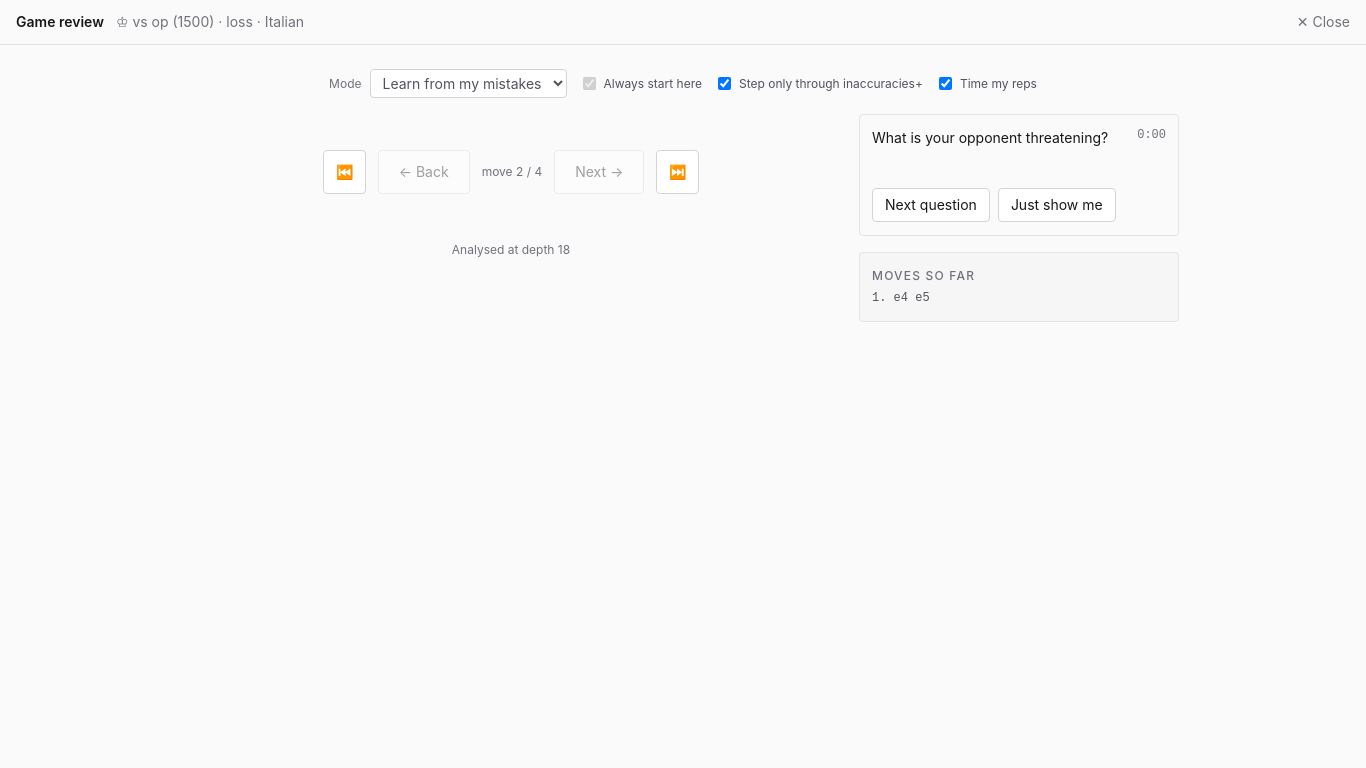
before a commit nothing that answers the question is on screen › in Learn the stepper is enabled exactly when a prompt ply lies that way
expect the button "← Back" is disabled: met, box x1=378 y1=150 x2=470 y2=194
expect the button "Next →" is disabled: met, box x1=554 y1=150 x2=644 y2=194
Press ArrowRight
expect the text "move 2 / 4" is shown: met, box x1=482 y1=164 x2=542 y2=180
Click the checkbox labelled "Step only through inaccuracies+".
click(724, 84)  # box x1=718 y1=77 x2=731 y2=90
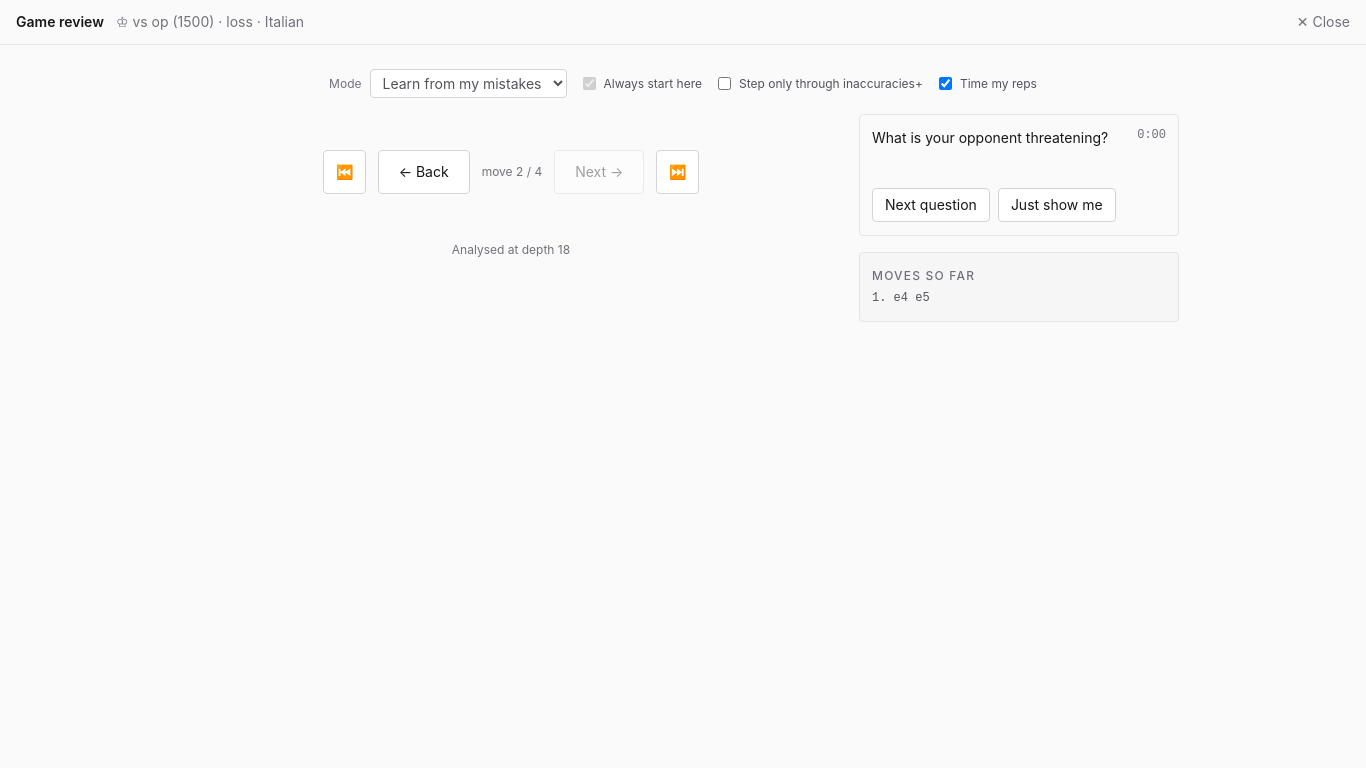
expect the button "Next →" is disabled: met, box x1=554 y1=150 x2=644 y2=194
expect the button "← Back" is enabled: met, box x1=378 y1=150 x2=470 y2=194
Press ArrowLeft
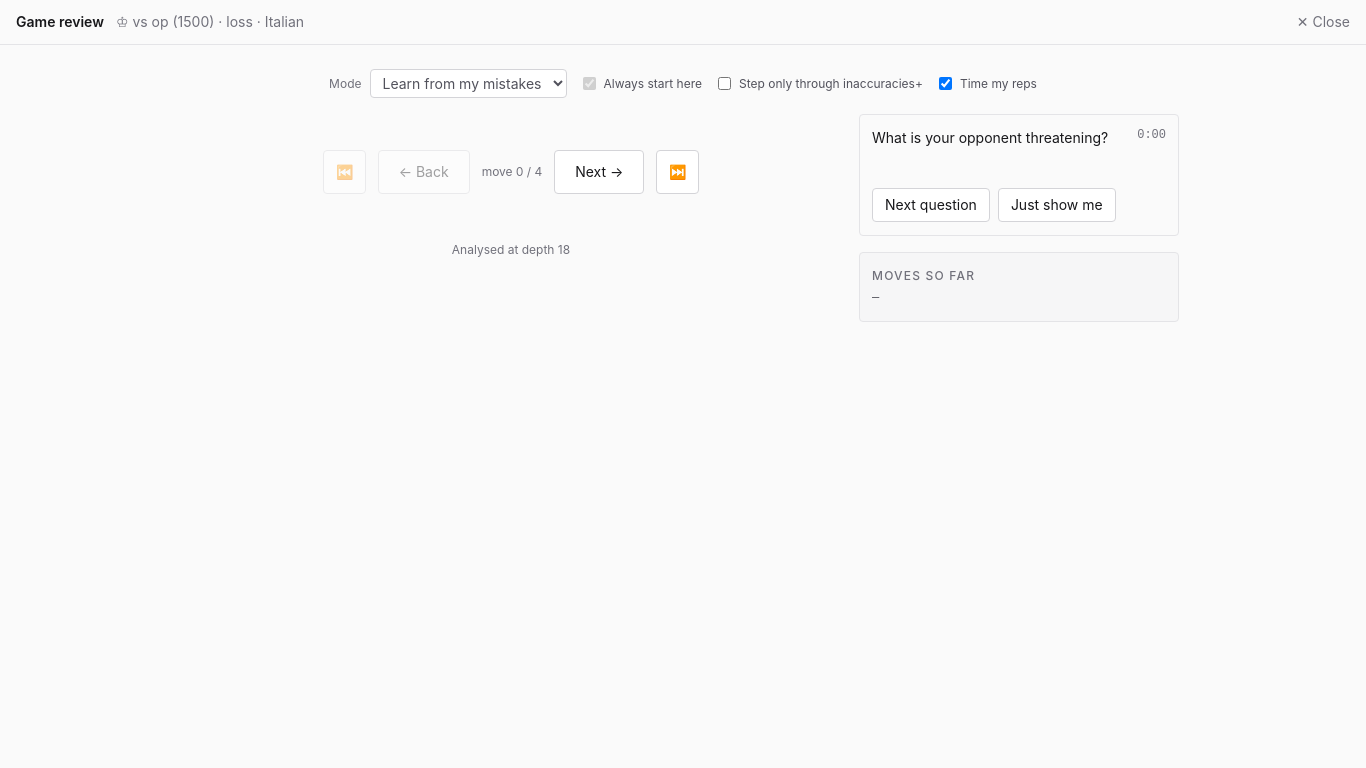
expect the text "What is your opponent threatening?" is shown: met, box x1=872 y1=129 x2=1108 y2=146
expect the text "move 0 / 4" is shown: met, box x1=482 y1=164 x2=542 y2=180
